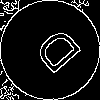D: (25, 25, 84, 83)
